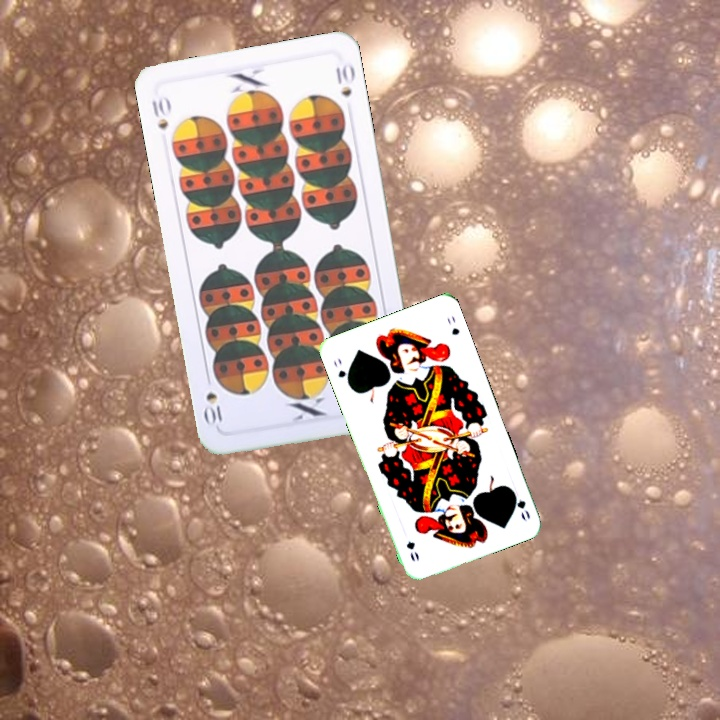GO: (507, 485, 533, 524), (329, 353, 353, 389)
S10: (147, 92, 173, 133)
